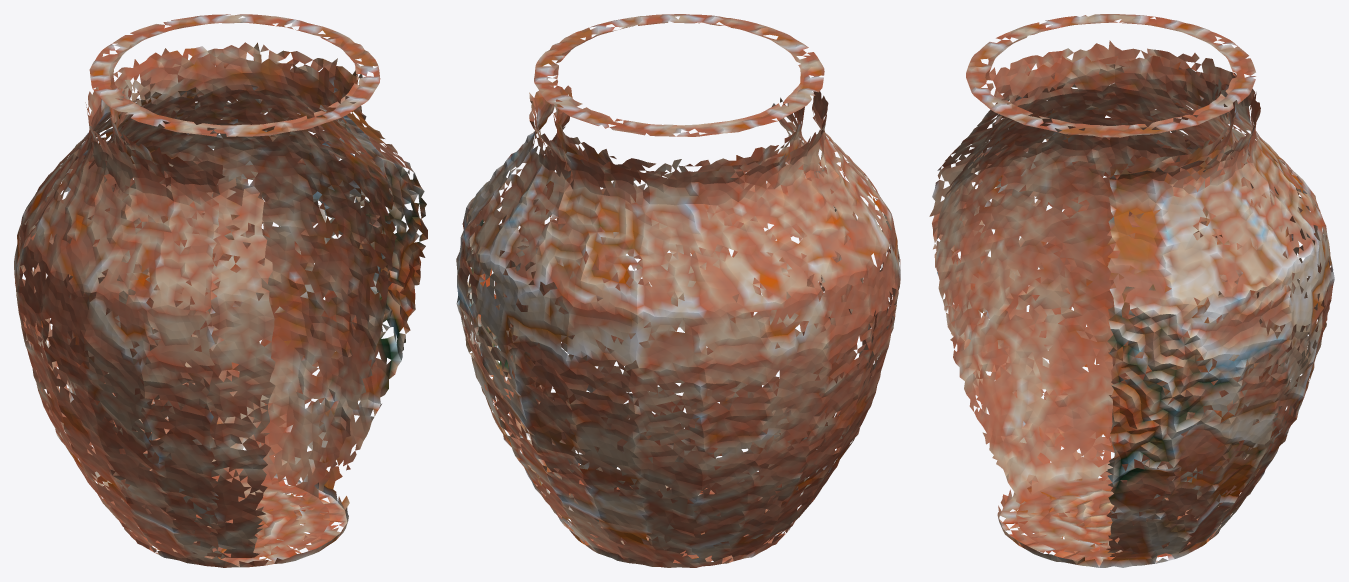
File: vase2_final700.obj
The picture shows the model from 3 angles, left to right: view 1: azimuth 30°, elevation 25°; view 2: azimuth 150°, elevation 25°; view 3: azimuth 270°, elevation 25°; orthographic projection.
Size of the model in its own units: 1.52 by 1.69 by 1.39.
